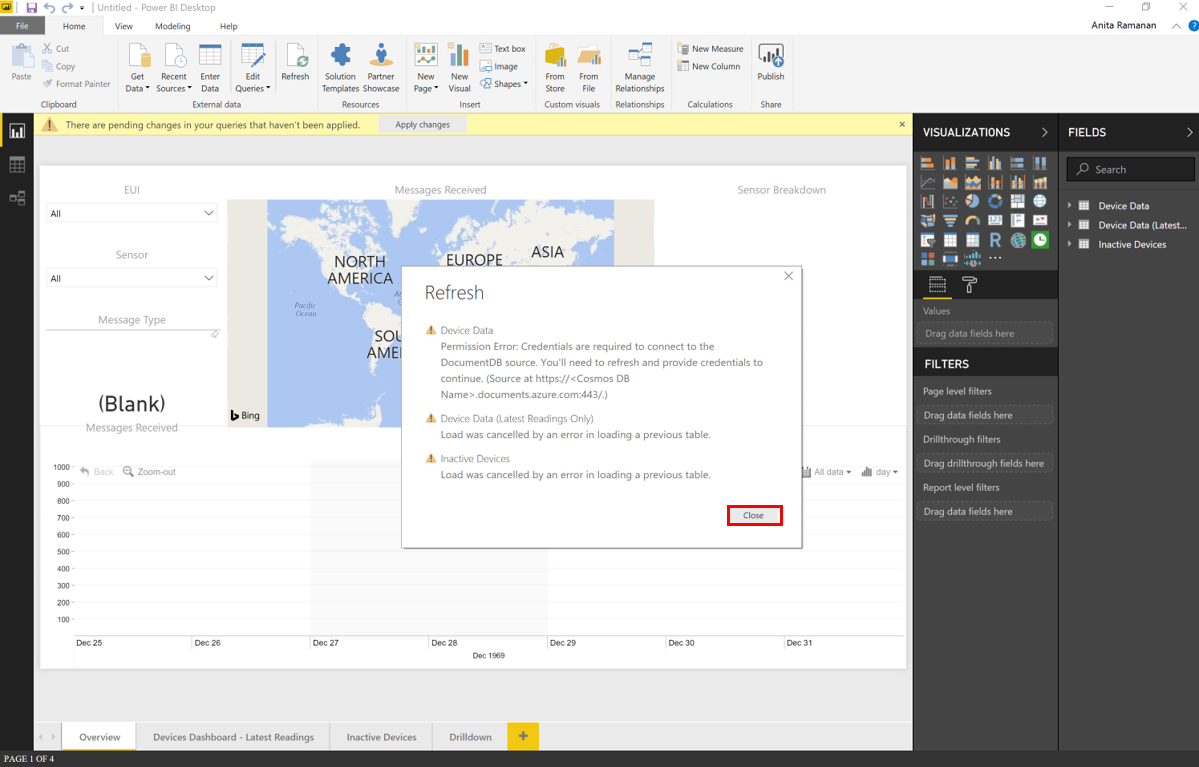

This screenshot's page, from the dashboard's own definition file:
{"tool":"powerbi","page":{"name":"Overview","canvas":[1280,720],"ordinal":0},"visuals":[{"type":"pieChart","fields":{"Category":["Loriot.Sensor Name"],"Y":["CountNonNull(Loriot.EUI)"]},"box":[912,0,368,368],"z":2},{"type":"slicer","fields":{"Values":["Loriot.EUI"]},"box":[0,0,272,80],"z":4},{"type":"slicer","fields":{"Values":["Loriot.Sensor Name"]},"box":[0,96,272,80],"z":4},{"type":"ChicletSlicer1448559807354","fields":{"Category":["Loriot.Message Type"]},"box":[0,192,272,80],"z":5},{"type":"card","fields":{"Values":["Loriot.Messages Received"]},"box":[0,288,272,96],"z":5},{"type":"ZoomChartsTimeChartFree33C9F325D337408C98D4E1D4E1EAD705","fields":{"Category":["Loriot.Timestamp (Gateway)"],"Values":["CountNonNull(Loriot.EUI)"]},"box":[0,384,1280,336],"z":5},{"type":"map","fields":{"Y":["Loriot.Device Latitude"],"X":["Loriot.Device Longitude"],"Size":["Loriot.Messages Received"]},"box":[272,0,640,368],"z":6}]}

Visuals, with their boxes on the page's 1280x720 design canvas (x1, y1, x2, y2). These are canvas units, not pixel positions in the 1199x767 screenshot, which may show the page scaled, cropped or inside an application window:
pieChart - Loriot.Sensor Name x CountNonNull(Loriot.EUI): 912:0:1280:368
slicer - Loriot.EUI: 0:0:272:80
slicer - Loriot.Sensor Name: 0:96:272:176
ChicletSlicer1448559807354 - Loriot.Message Type: 0:192:272:272
card - Loriot.Messages Received: 0:288:272:384
ZoomChartsTimeChartFree33C9F325D337408C98D4E1D4E1EAD705 - Loriot.Timestamp (Gateway) x CountNonNull(Loriot.EUI): 0:384:1280:720
map - Loriot.Device Latitude x Loriot.Device Longitude: 272:0:912:368
